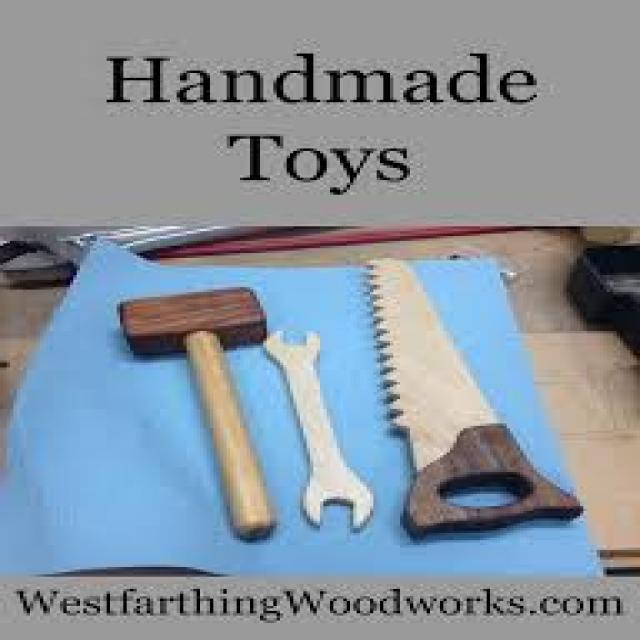hammer: (106, 280, 294, 545)
